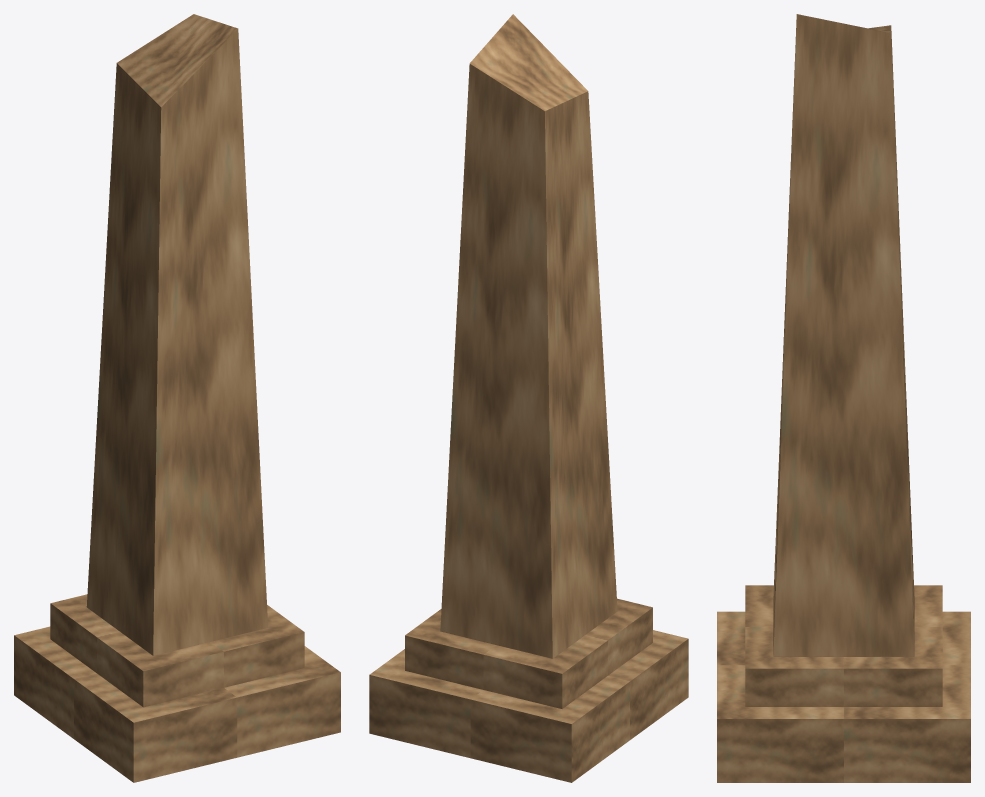
The model's file is Obelisk_Ruined_1_LOD2.gltf.
3 views of the same model, side by side, from view 1: azimuth 30°, elevation 25°; view 2: azimuth 150°, elevation 25°; view 3: azimuth 270°, elevation 25° (orthographic). The views are drawn at different scales.
Parts seen in each view (by area): view 1: Obelisk_Ruined_1_LOD2; view 2: Obelisk_Ruined_1_LOD2; view 3: Obelisk_Ruined_1_LOD2.
Part boxes in pixels (x1,y1,x2,y2): Obelisk_Ruined_1_LOD2: (14,14,340,782); Obelisk_Ruined_1_LOD2: (369,14,688,782); Obelisk_Ruined_1_LOD2: (717,14,970,782).
Size of the model in its own units: 1.8 by 5.75 by 1.8.
Materials: 1 (1 with a texture image).
